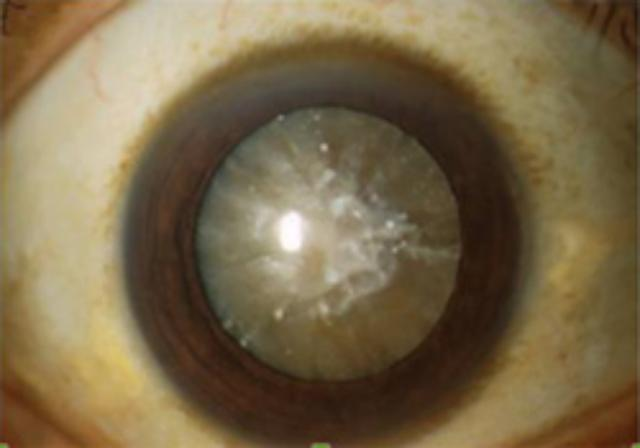eye: (118, 26, 528, 448)
